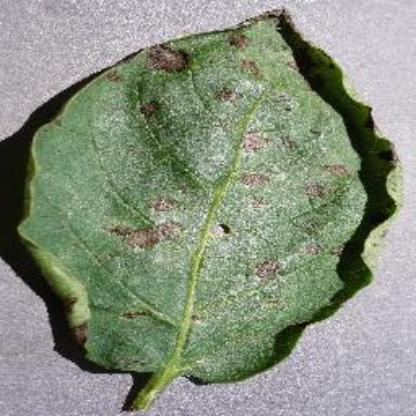Early-Blight: (12, 6, 416, 416)
